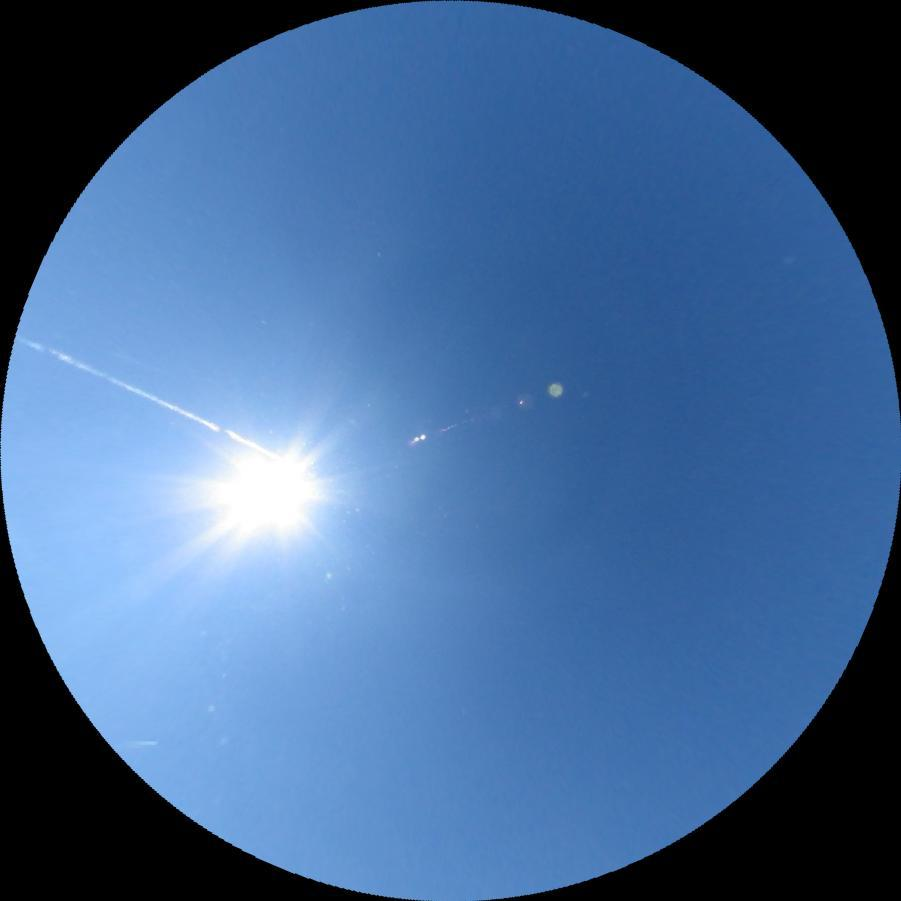contrail young: (121, 739, 161, 747)
parasite: (13, 331, 281, 460)
sun: (207, 439, 323, 545)
